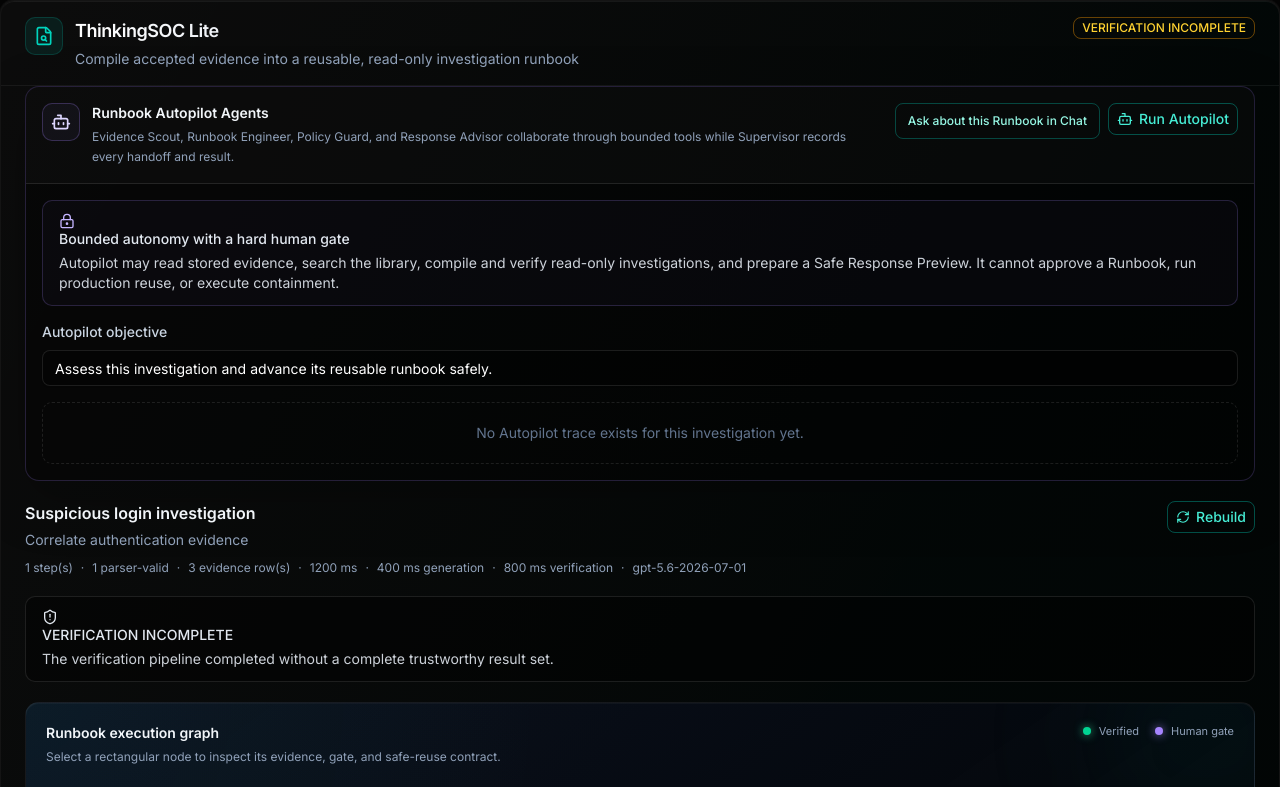
Test: VerifiedRunbookPanel › shows an in-progress warning instead of the previous failed status during rebuild
Click the button "Rebuild" at (1211, 517), box [1167, 501, 1255, 533]
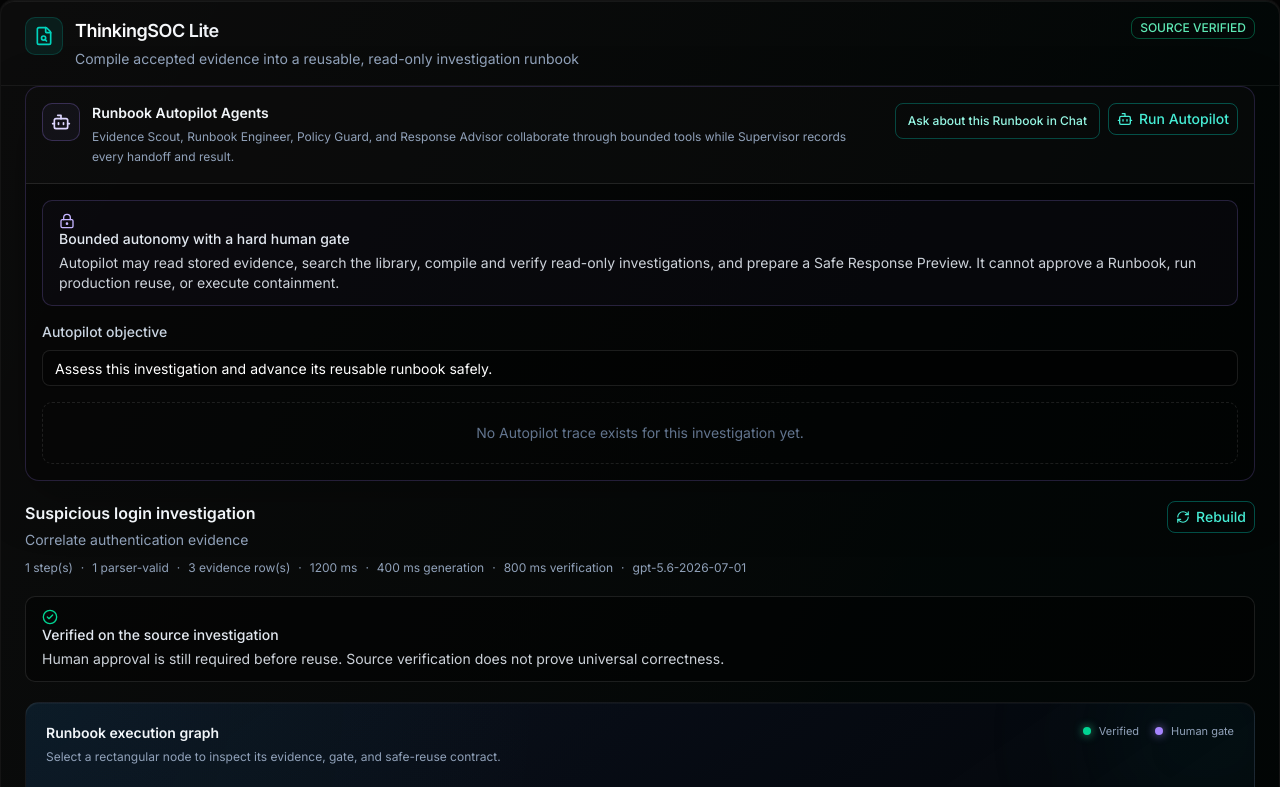
Check: the text "REBUILDING" is shown, box [1131, 17, 1255, 39]
Check: the text "Verified on the source investigation" is shown, box [42, 626, 279, 643]
